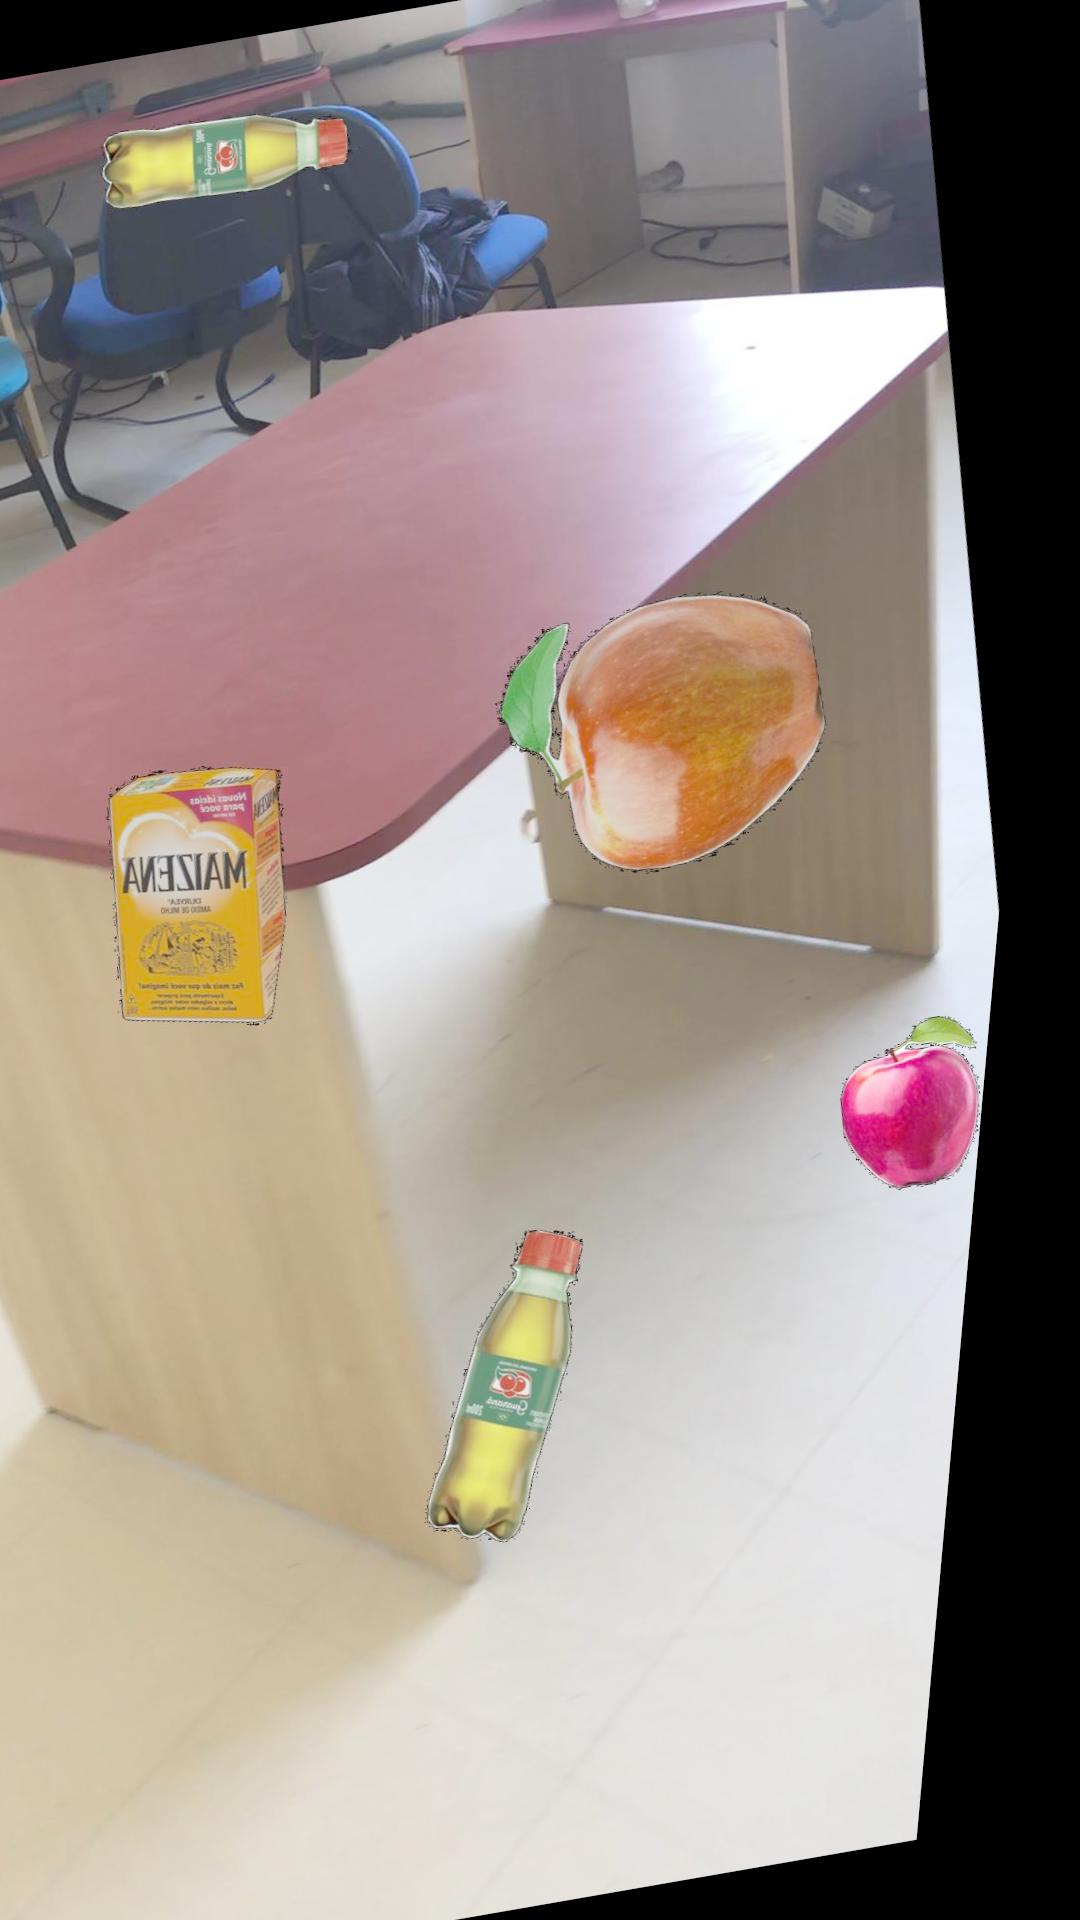apple: (509, 592, 837, 870), (858, 1014, 997, 1188)
guarana: (454, 1228, 604, 1540), (102, 112, 352, 206)
